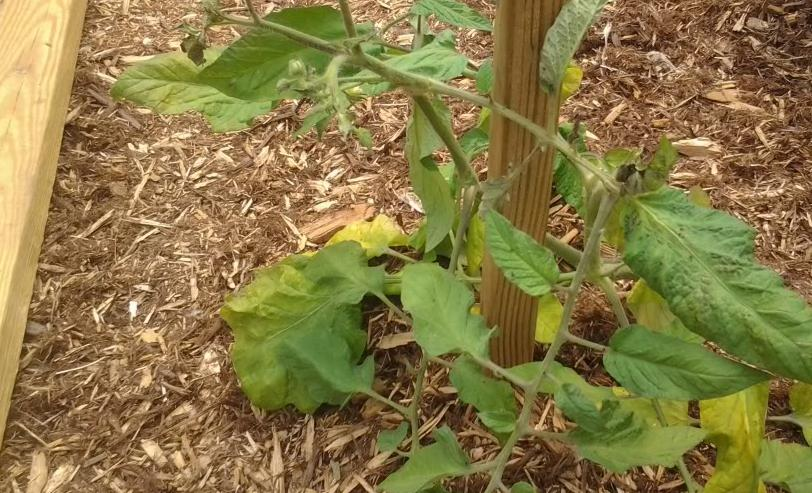Tomato leaf: (619, 184, 812, 389), (102, 49, 267, 131), (404, 241, 502, 376)
